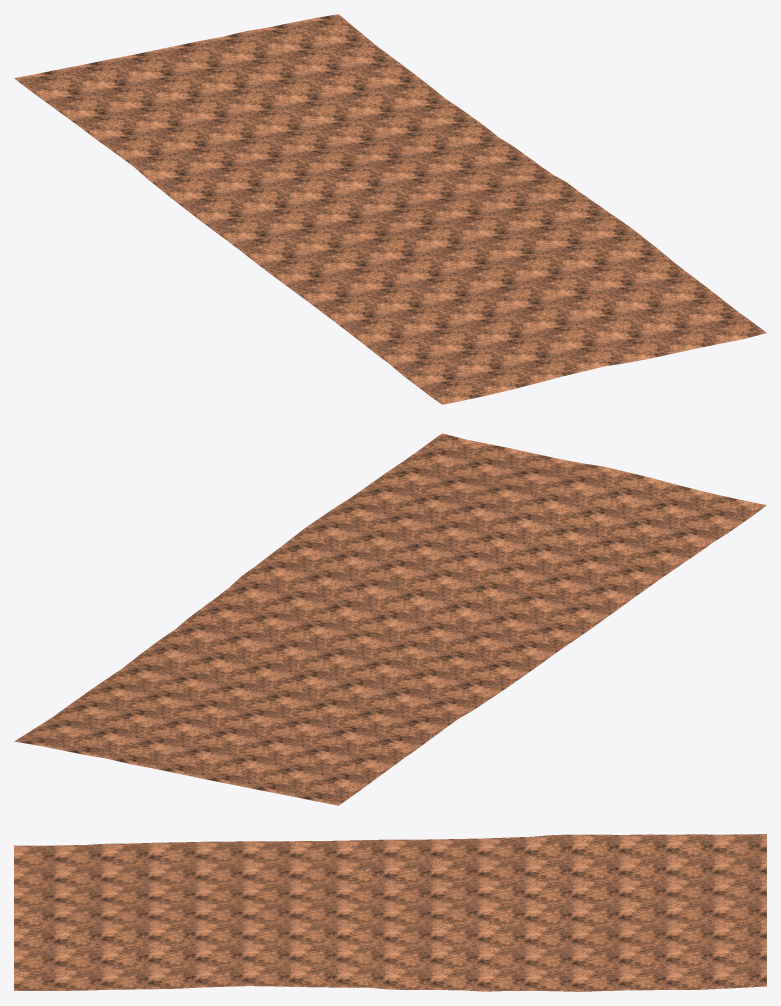
File: terrain_09_23.dae
The picture shows the model from 3 angles, top to bottom: view 1: azimuth 30°, elevation 25°; view 2: azimuth 150°, elevation 25°; view 3: azimuth 270°, elevation 25°; orthographic projection. The views are drawn at different scales.
Visible parts, largest first — view 1: terrain_09_23-node; view 2: terrain_09_23-node; view 3: terrain_09_23-node.
Part boxes in pixels (x1,y1,x2,y2): terrain_09_23-node: [14, 14, 766, 404]; terrain_09_23-node: [14, 433, 766, 805]; terrain_09_23-node: [14, 834, 766, 991].
Bounding box in the file's own units: 56 × 128 × 3.51.
1 material, 1 textured.
